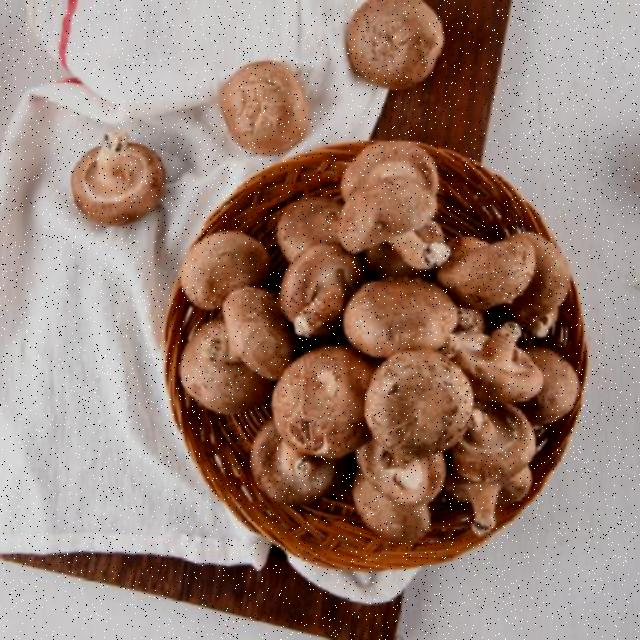Mushroom: (328, 177, 457, 286), (64, 120, 170, 232), (204, 56, 319, 152), (342, 0, 453, 89)
